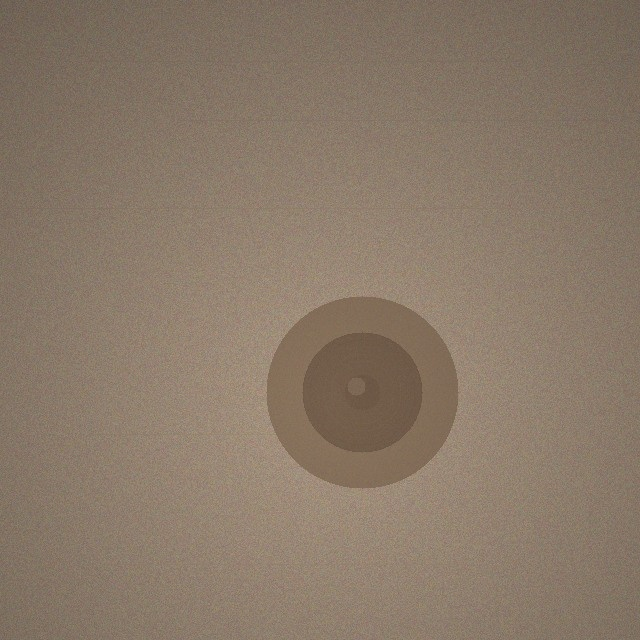good: (266, 296, 458, 488)
